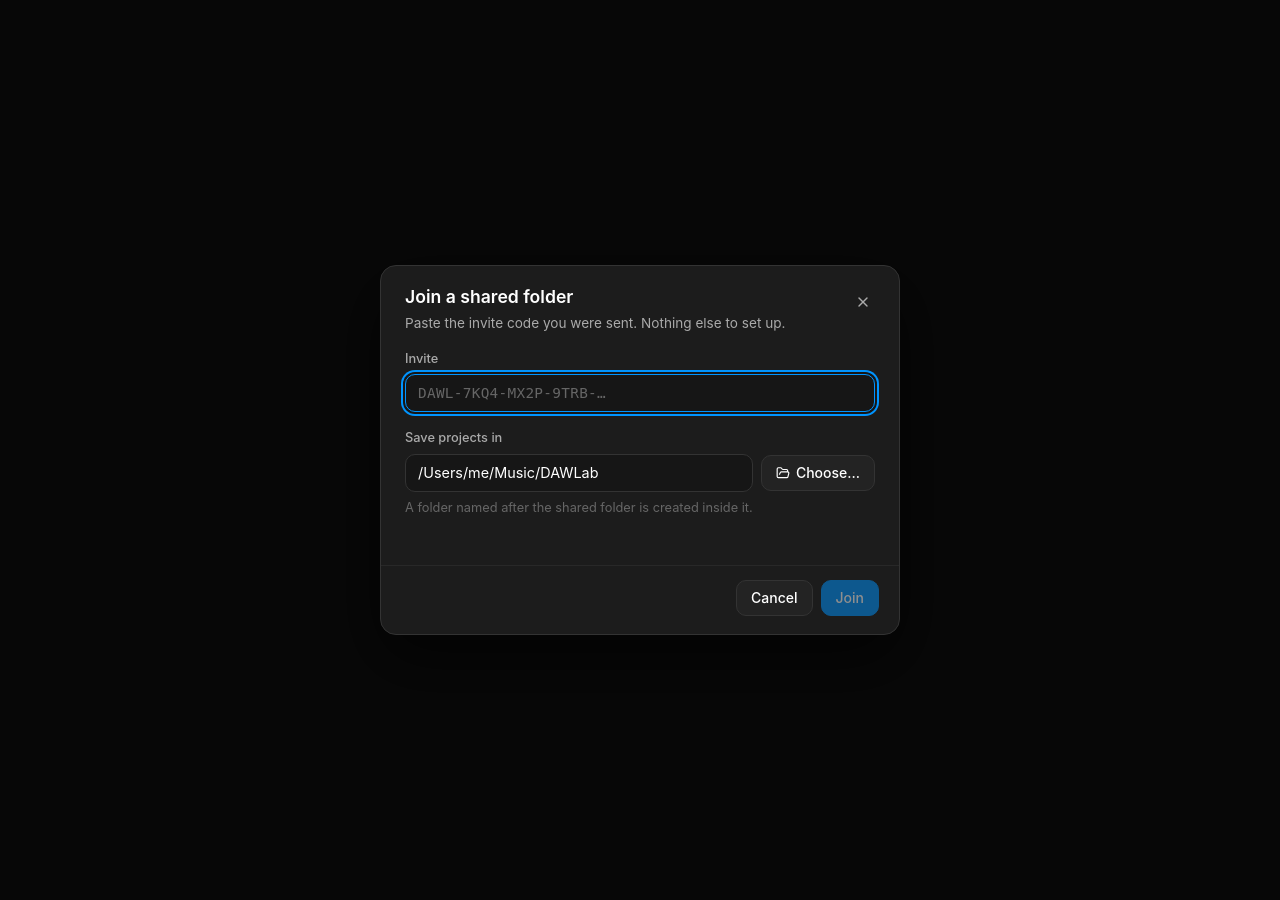
JoinFolderDialog › shows the error when joining fails
Type "DAWL-7KQ4-MX2P-9TRB" into the field labelled "Invite" at x=640, y=393, box [405,374,875,412]
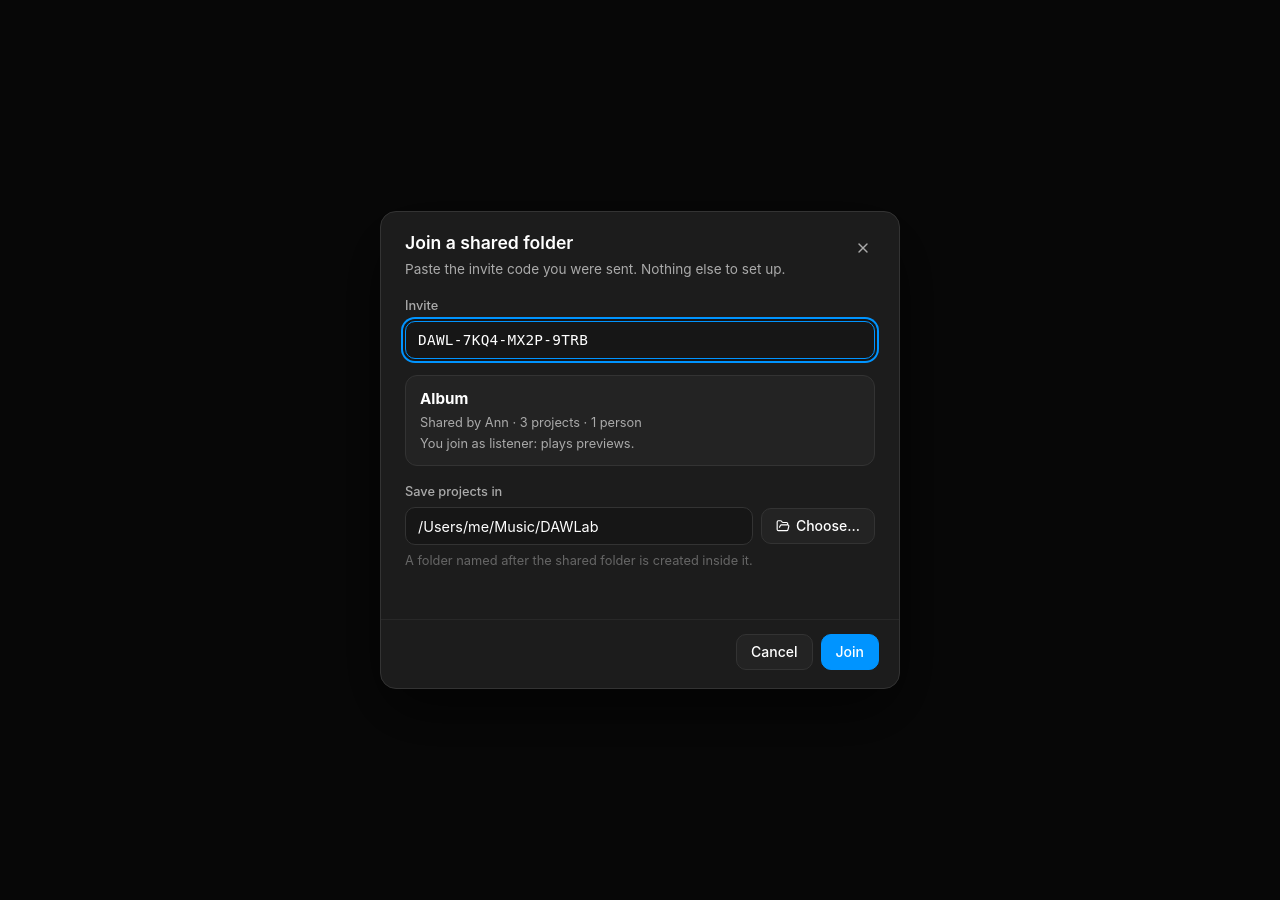
Expected: the text "Album" is shown, [420,389,468,408]
Click the button "Join" at x=850, y=652, box [820,634,879,670]
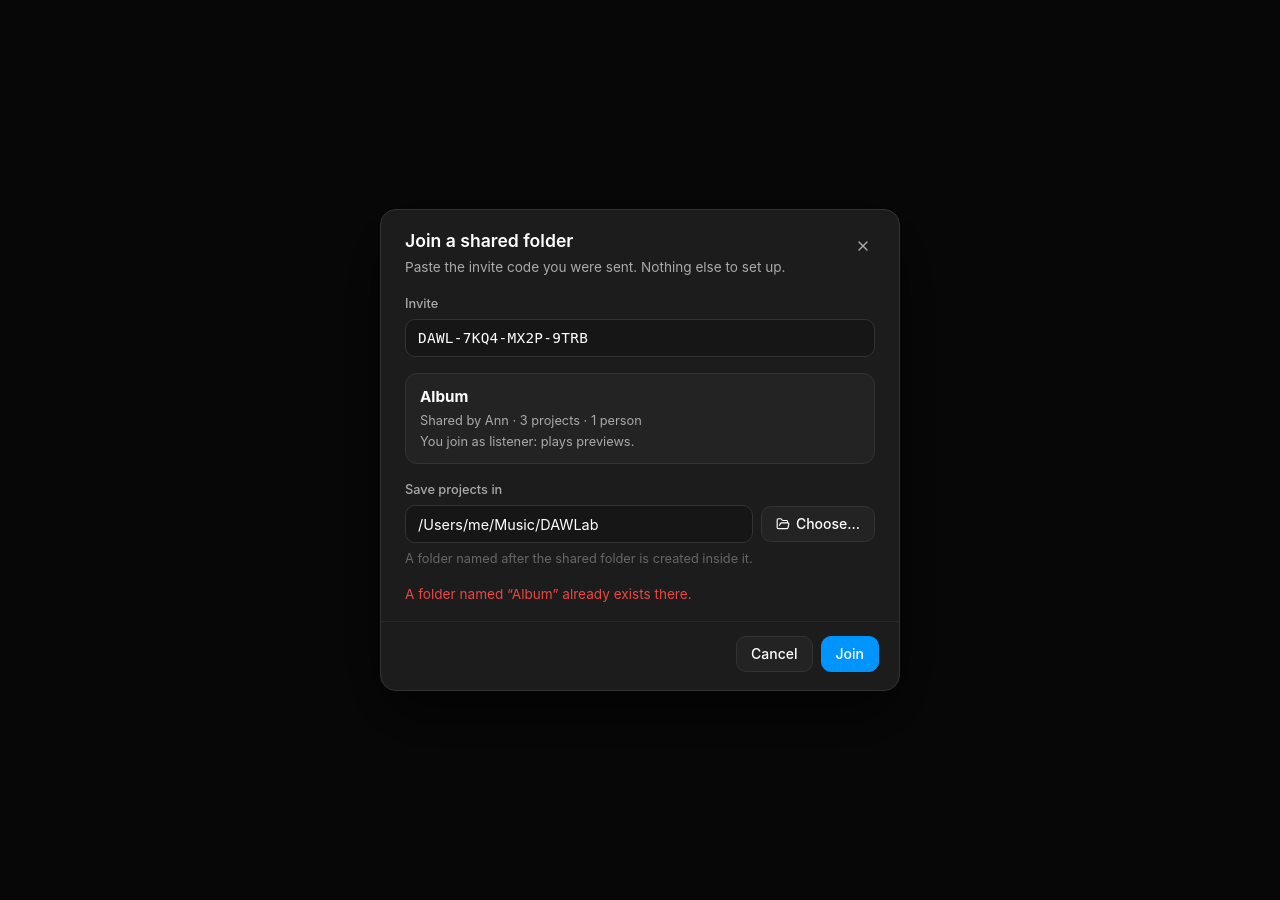
Expected: the button "Join" is enabled, [820,636,879,672]
Expected: the message reads "A folder named “Album” already exists there.", [405,586,692,602]
